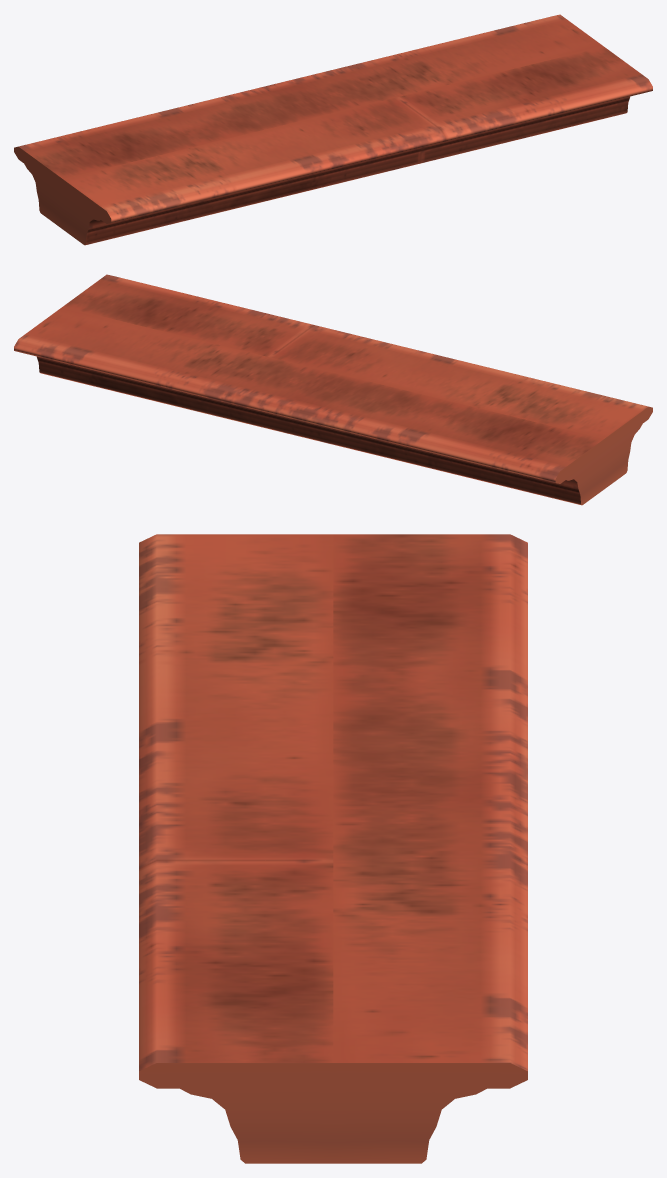
Rendered from MSH_Trim_01.FBX.
3 renders of one model, top to bottom at view 1: azimuth 30°, elevation 25°; view 2: azimuth 150°, elevation 25°; view 3: azimuth 270°, elevation 25°, orthographic. The views are drawn at different scales.
Visible parts, largest first — view 1: MSH_Trim_01; view 2: MSH_Trim_01; view 3: MSH_Trim_01.
Part boxes in pixels (x1,y1,x2,y2): MSH_Trim_01: (14,14,652,245); MSH_Trim_01: (14,274,652,505); MSH_Trim_01: (139,534,527,1163).
Size of what is drawn, in the model's own units: 180 by 56 by 16.03.
